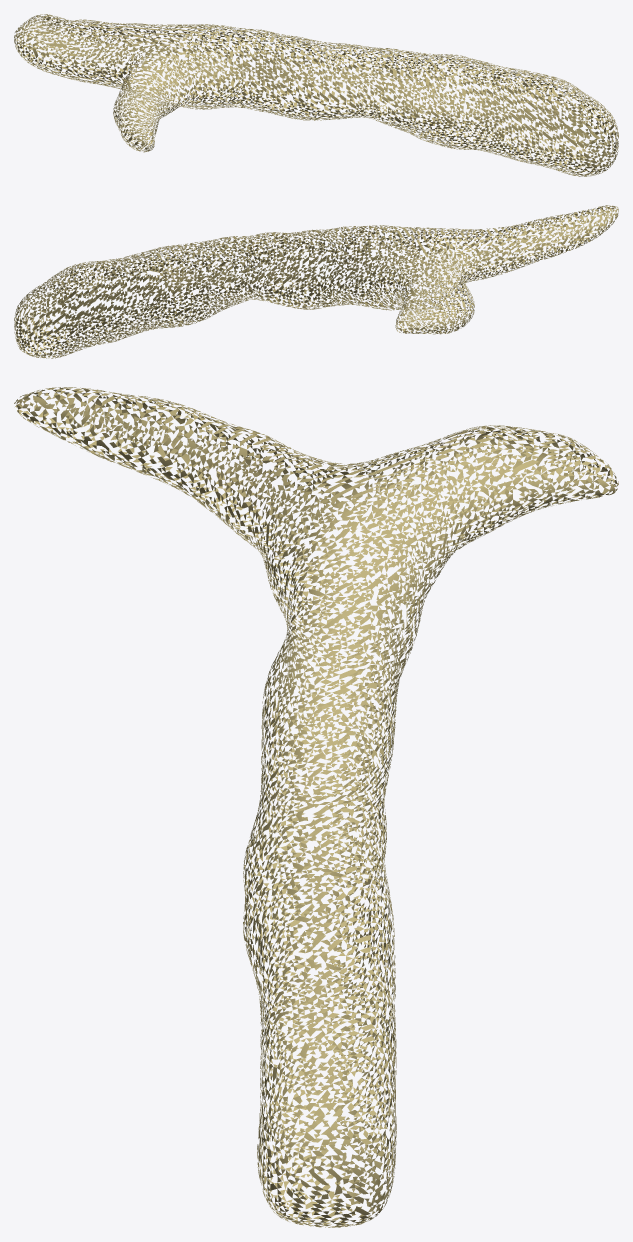
Rendered from morph_008.glb.
3 views of the same model, one above another, from view 1: azimuth 30°, elevation 25°; view 2: azimuth 150°, elevation 25°; view 3: azimuth 270°, elevation 25° (orthographic). The views are drawn at different scales.
Bounding box in the file's own units: 121 × 48.49 × 66.04.
